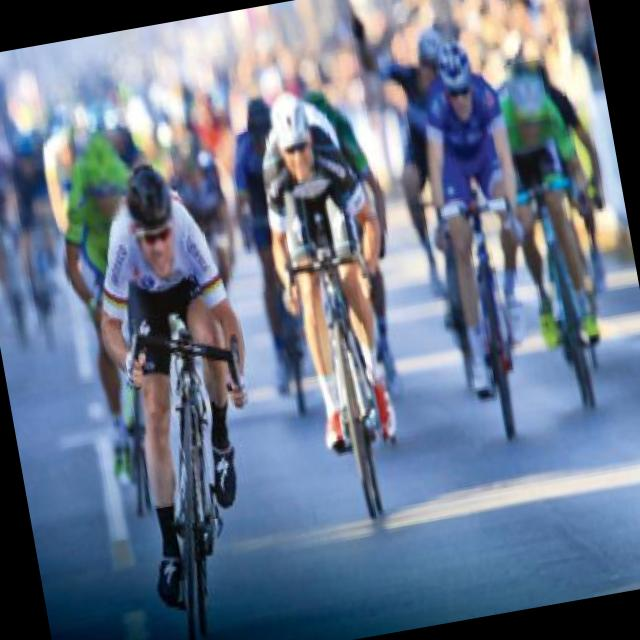With Helmet: (116, 155, 189, 285), (255, 77, 326, 190), (74, 128, 132, 226), (429, 33, 484, 131), (503, 58, 556, 153)
